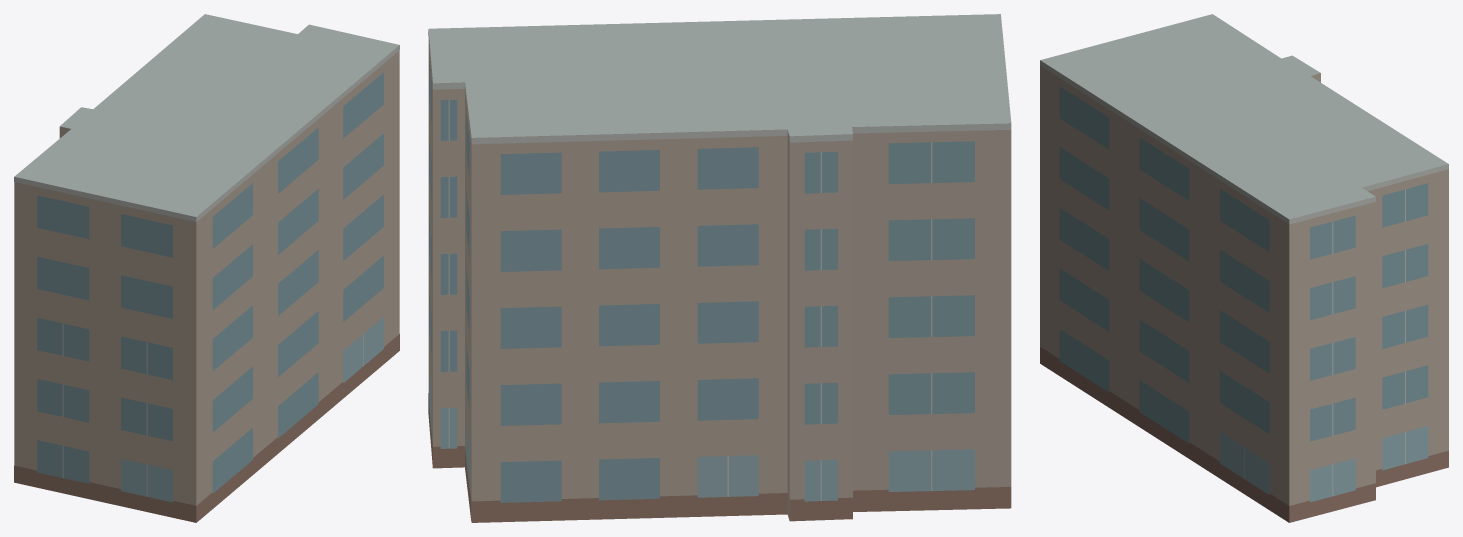
The model's file is survey-upis-32755028.glb.
The picture shows the model from 3 angles, left to right: view 1: azimuth 30°, elevation 25°; view 2: azimuth 150°, elevation 25°; view 3: azimuth 270°, elevation 25°; orthographic projection. The views are drawn at different scales.
Parts seen in each view (by area): view 1: survey-upis-32755028.tmp; view 2: survey-upis-32755028.tmp; view 3: survey-upis-32755028.tmp.
Part boxes in pixels (<box>): survey-upis-32755028.tmp: <box>14,14,399,522</box>; survey-upis-32755028.tmp: <box>428,14,1011,522</box>; survey-upis-32755028.tmp: <box>1040,14,1448,522</box>.
Bounding box in the file's own units: 21.21 × 14.6 × 17.83.
